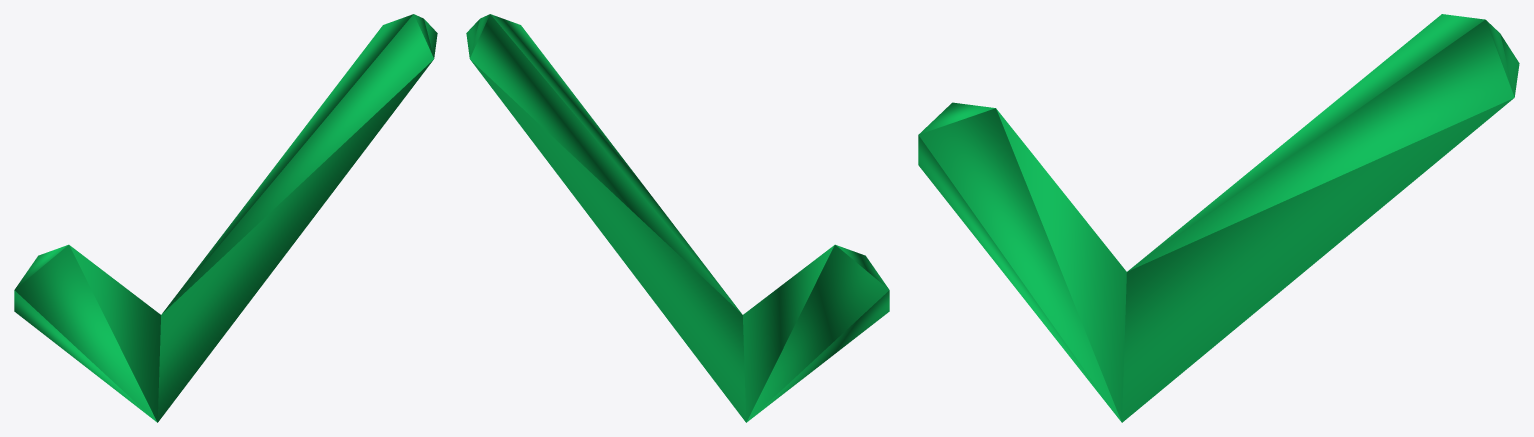
File: check.glb
3 views of the same model, side by side, from view 1: azimuth 30°, elevation 25°; view 2: azimuth 150°, elevation 25°; view 3: azimuth 330°, elevation 25° (orthographic). The views are drawn at different scales.
Parts seen in each view (by area): view 1: check; view 2: check; view 3: check.
Part boxes in pixels (x1,y1,x2,y2): check: (14,14,437,422); check: (466,14,889,422); check: (918,14,1519,422).
Size of the model in its own units: 1 by 0.7823 by 0.
